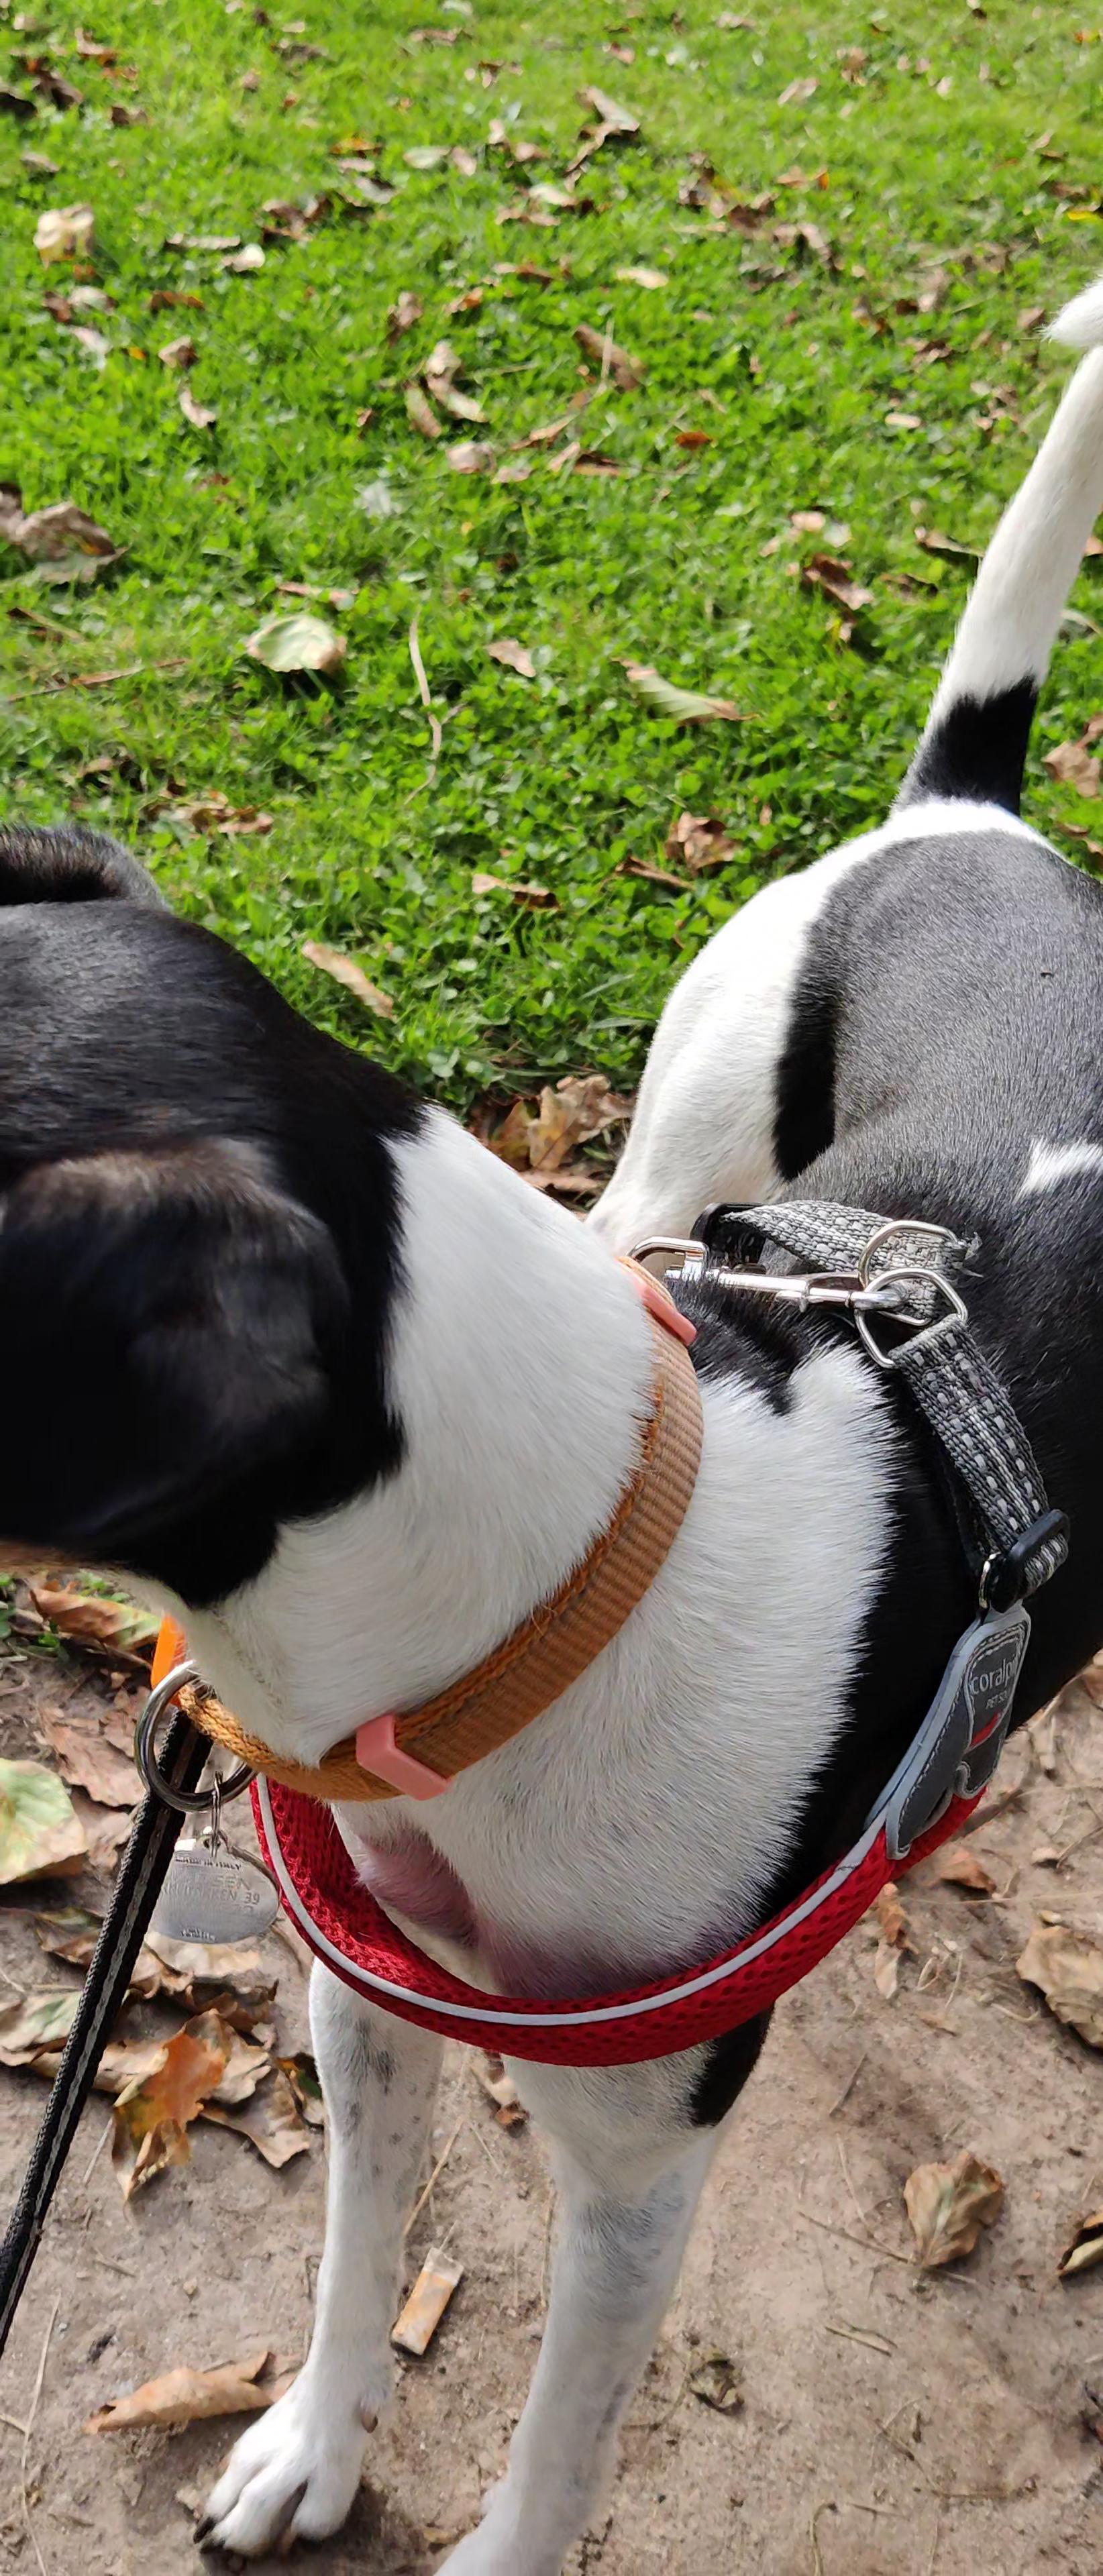Dog: (0, 268, 1103, 2576)
